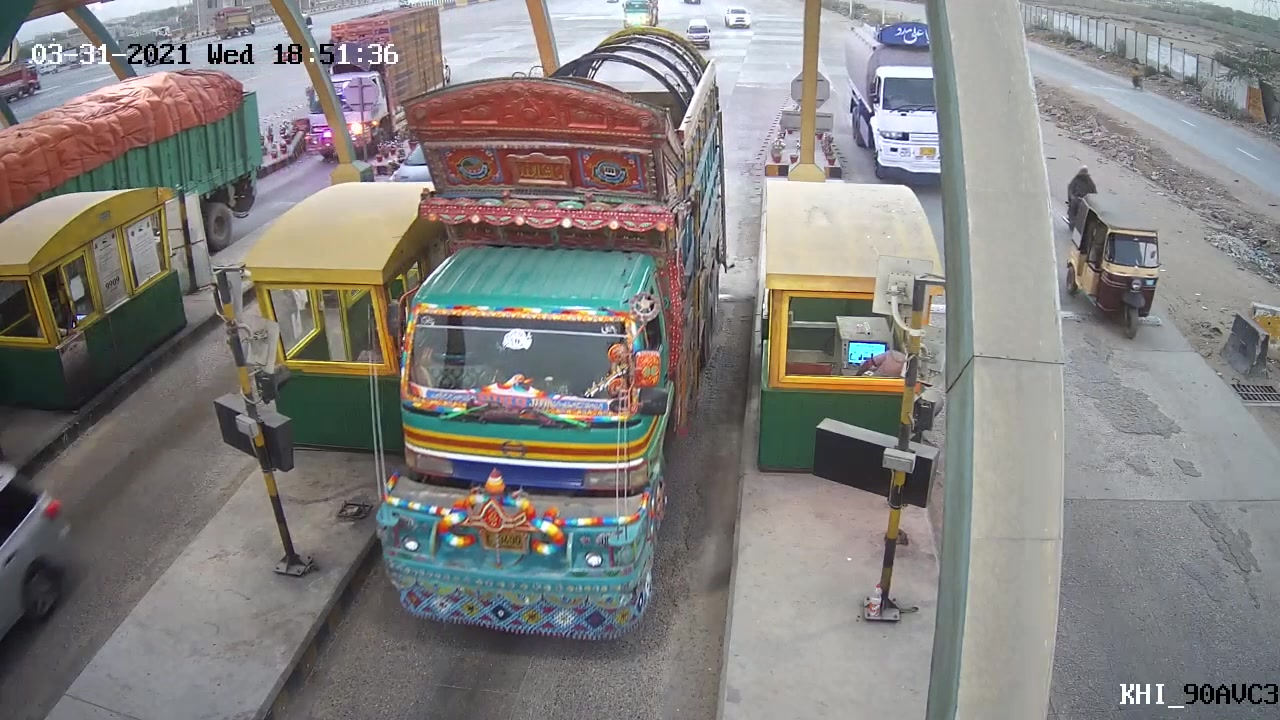F5: (347, 26, 730, 644)
